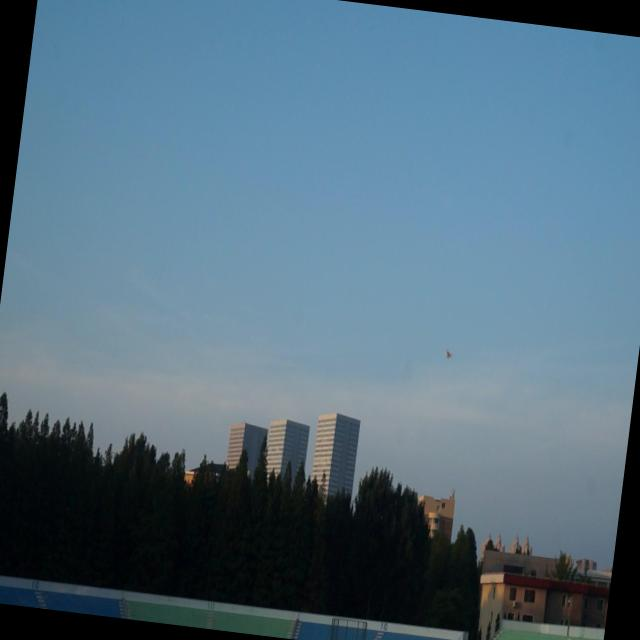drone: (442, 346, 454, 361)
